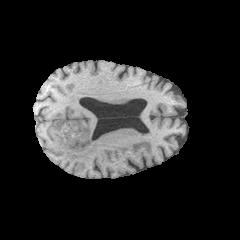glioma: (48, 119, 97, 162)
